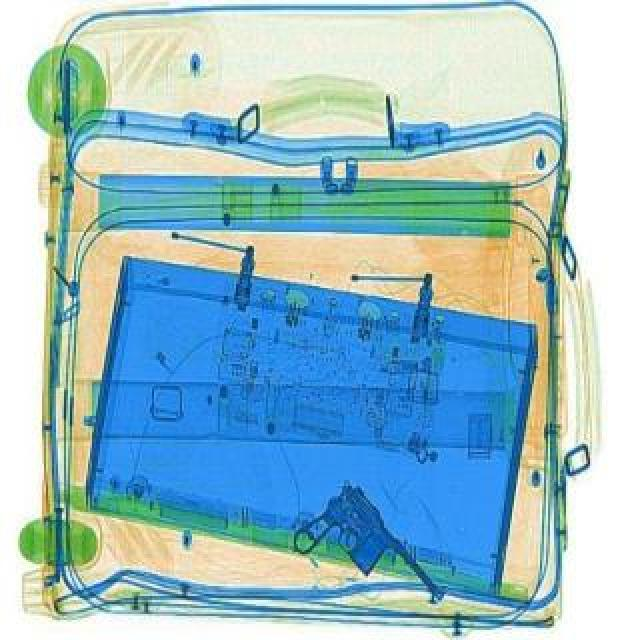gun: (278, 476, 442, 636)
